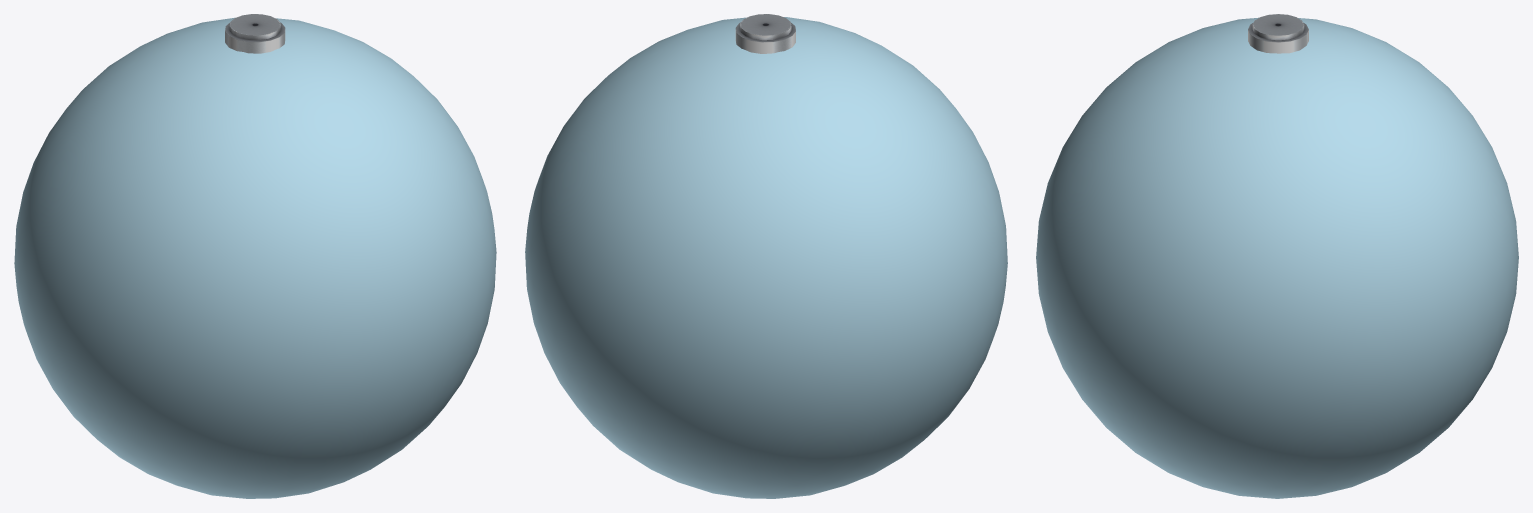
The model's file is ball.fbx.
3 renders of one model, left to right at view 1: azimuth 30°, elevation 25°; view 2: azimuth 150°, elevation 25°; view 3: azimuth 270°, elevation 25°, orthographic.
Visible parts, largest first — view 1: Icosphere, Hook; view 2: Icosphere, Hook; view 3: Icosphere, Hook.
Part boxes in pixels (x1,y1,x2,y2): Icosphere: (14, 17, 496, 498); Hook: (225, 14, 285, 53); Icosphere: (525, 17, 1007, 498); Hook: (735, 14, 795, 53); Icosphere: (1036, 17, 1518, 498); Hook: (1248, 14, 1308, 53).
Bounding box in the file's own units: 99.59 × 103 × 99.59.
